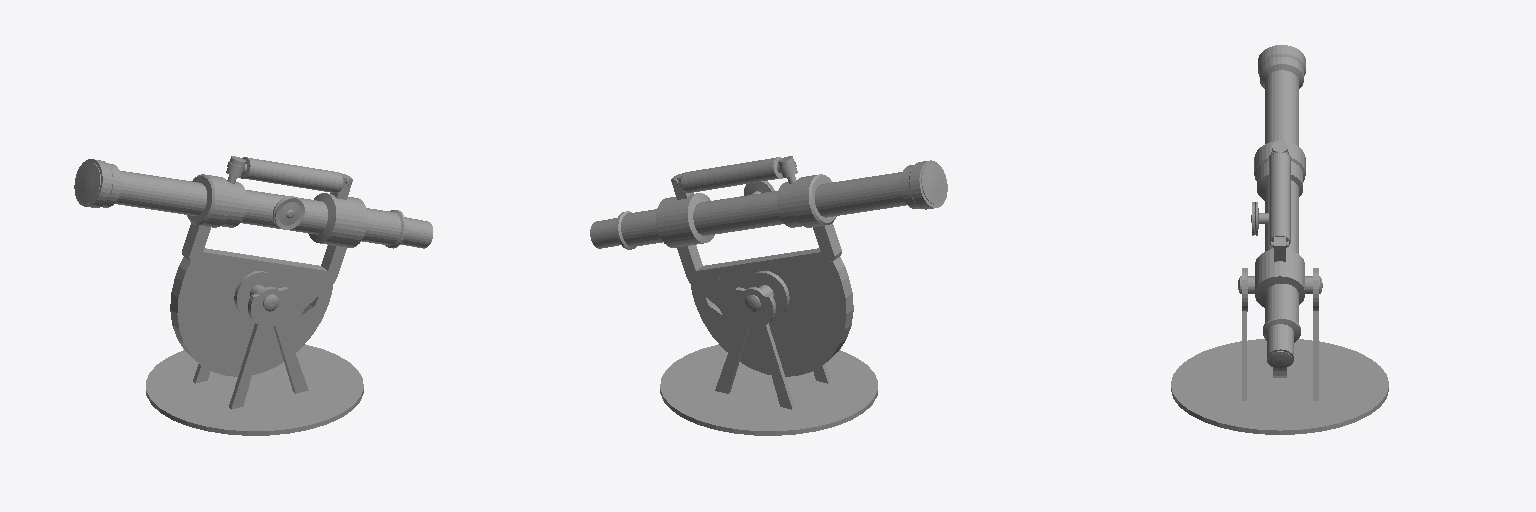
Rendered from Sextant.obj.
The picture shows the model from 3 angles: view 1: azimuth 30°, elevation 25°; view 2: azimuth 150°, elevation 25°; view 3: azimuth 270°, elevation 25°; orthographic projection.
Parts seen in each view (by area): view 1: Oben_Cube.002, Unten_Circle.014; view 2: Oben_Cube.002, Unten_Circle.014; view 3: Unten_Circle.014, Oben_Cube.002.
Boxes of the visible parts, box(x1,y1,x2,y2) form: Oben_Cube.002: box(74, 156, 432, 376); Unten_Circle.014: box(146, 287, 363, 435); Oben_Cube.002: box(590, 156, 947, 376); Unten_Circle.014: box(660, 287, 877, 435); Unten_Circle.014: box(1171, 268, 1388, 434); Oben_Cube.002: box(1238, 45, 1322, 377).
Bounding box in the file's own units: 31.13 × 22.84 × 16.93.